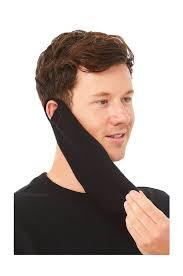Wore Mask Incorrectly: (25, 22, 154, 169)
